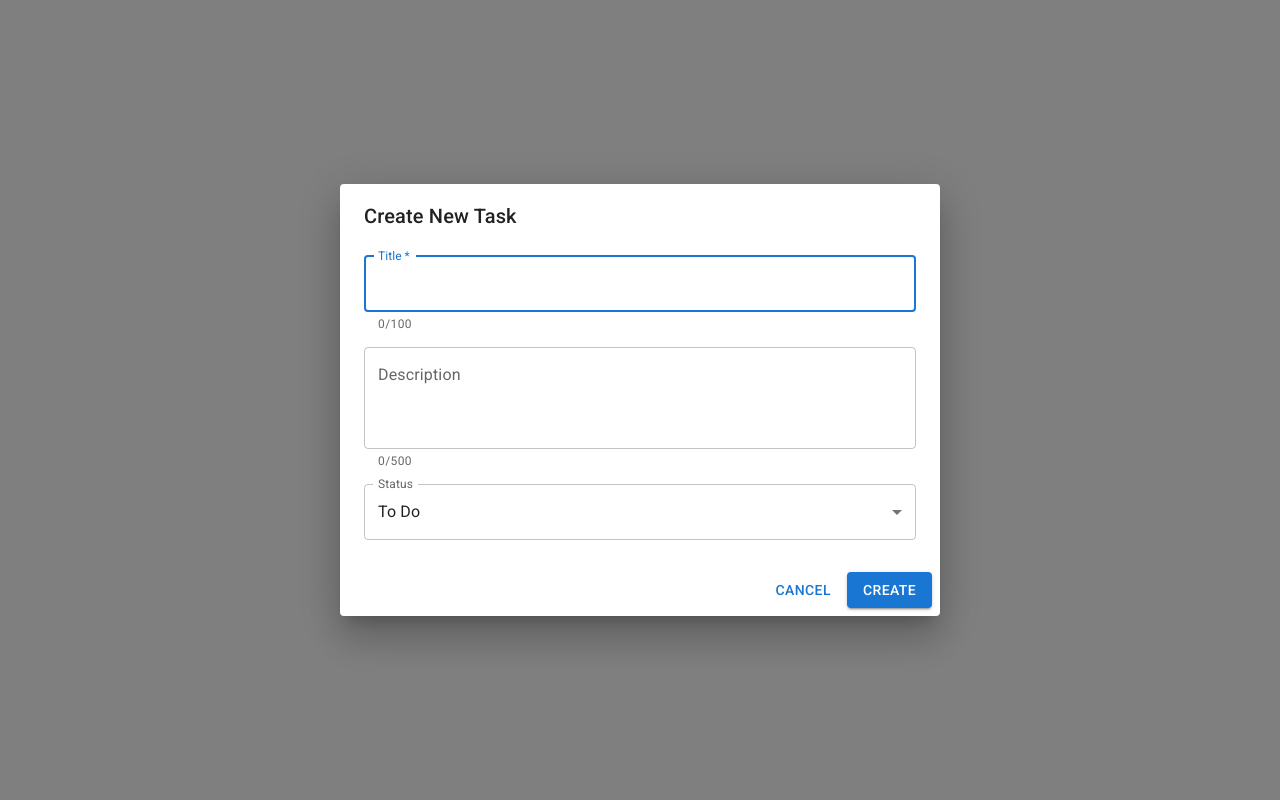
Scenario: TaskForm › shows character count for title
This screenshot has width=1280, height=800.
Step 1. Type "Test" into the field labelled "Title *" → coordinates (640, 284), box [364,256,916,312]
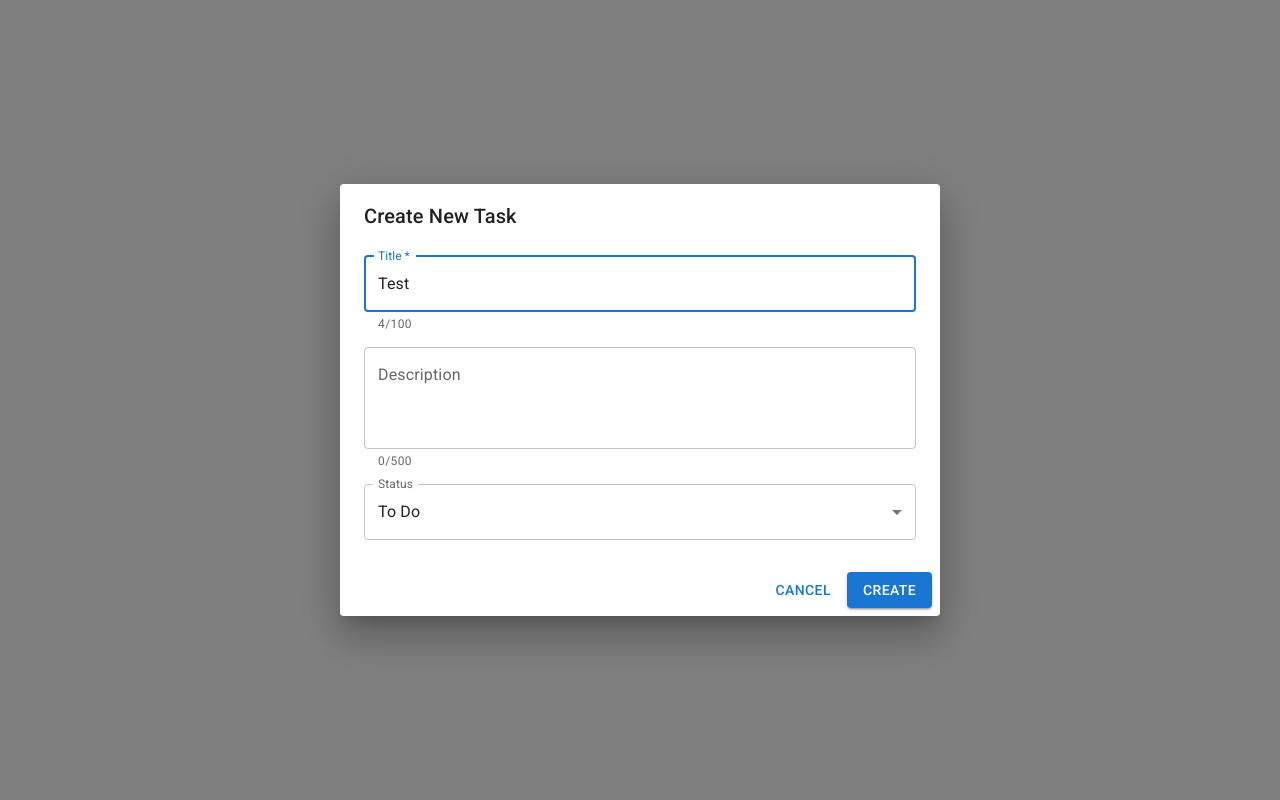
Check: the text "4/100" is shown, box [378,317,412,331]
